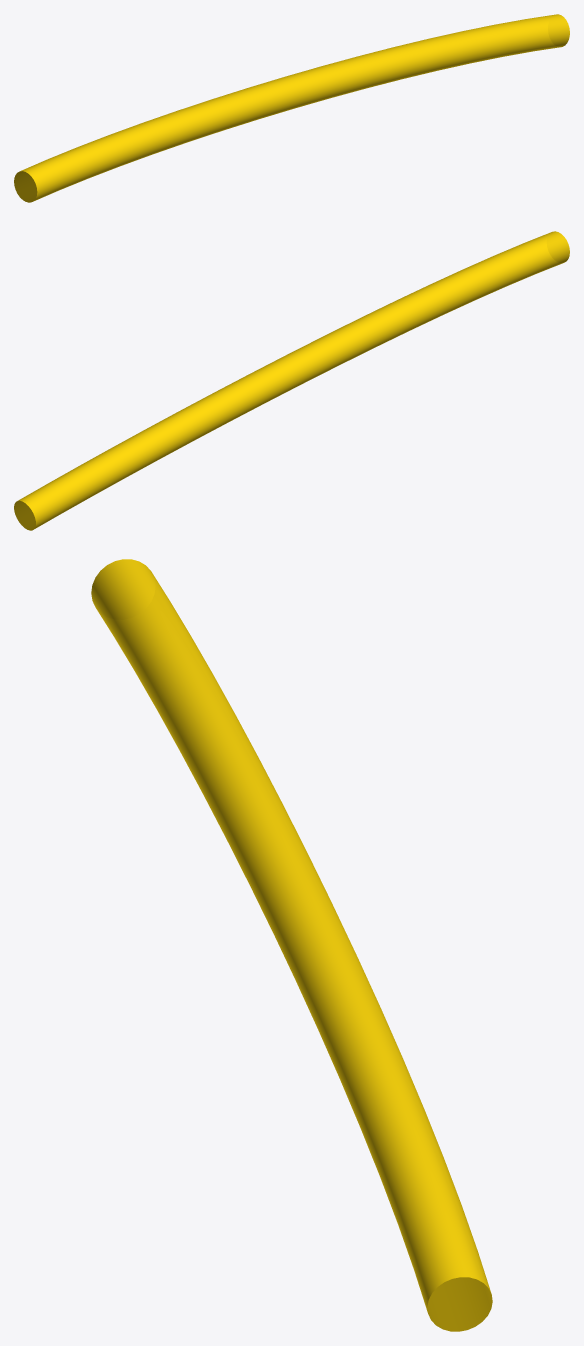
File: Event_421115418_track_159.fbx
3 views of the same model, one above another, from view 1: azimuth 30°, elevation 25°; view 2: azimuth 210°, elevation 25°; view 3: azimuth 270°, elevation 25° (orthographic). The views are drawn at different scales.
Parts seen in each view (by area): view 1: Model; view 2: Model; view 3: Model.
Boxes of the visible parts, bbox=[...] form: Model: bbox=[14, 14, 569, 202]; Model: bbox=[14, 231, 569, 530]; Model: bbox=[91, 559, 492, 1331].
Size of the model in its own units: 0.8673 by 0.1149 by 0.2414.
